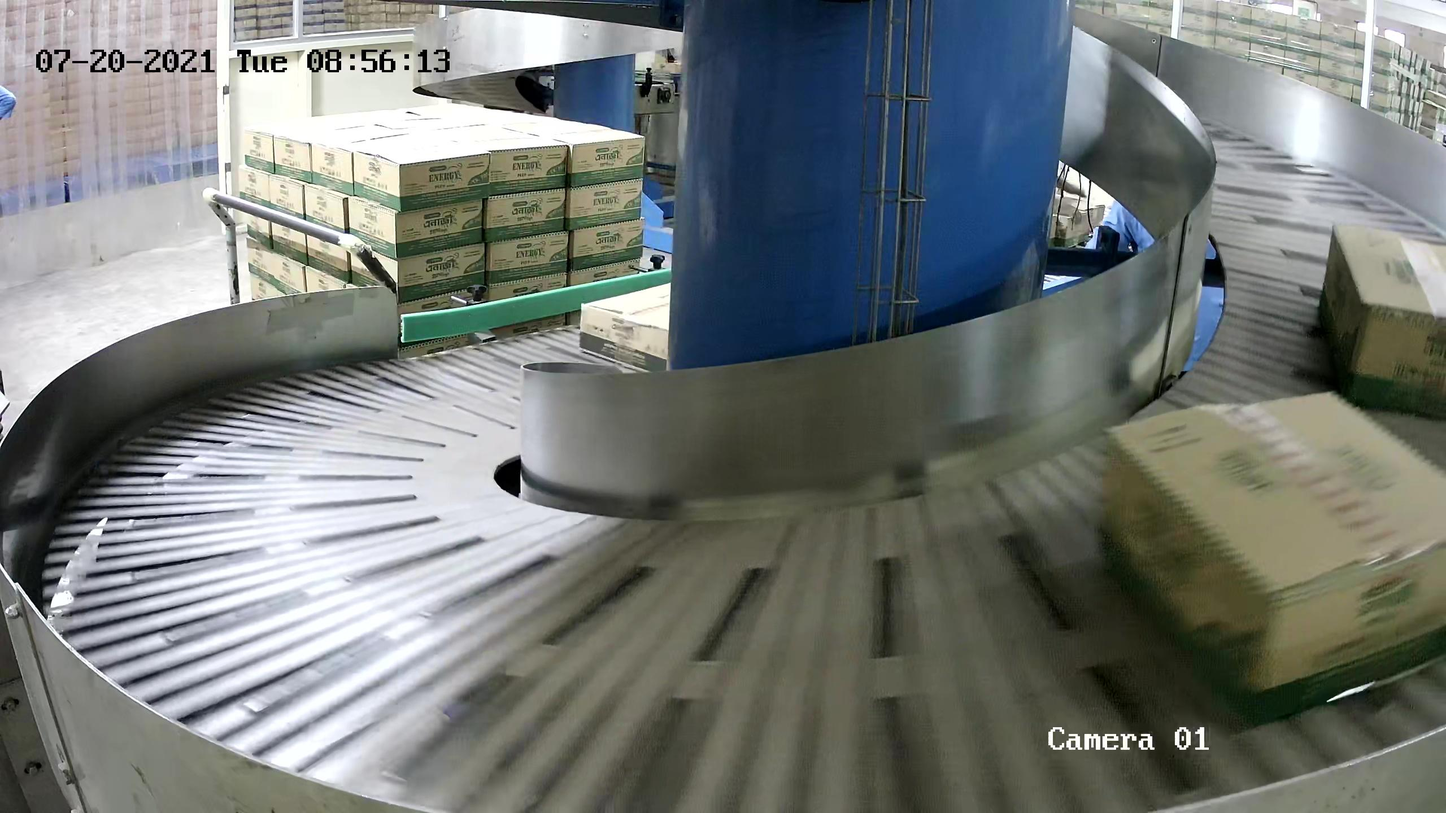Box: (1096, 388, 1446, 724), (1318, 220, 1446, 420), (578, 282, 671, 373)
